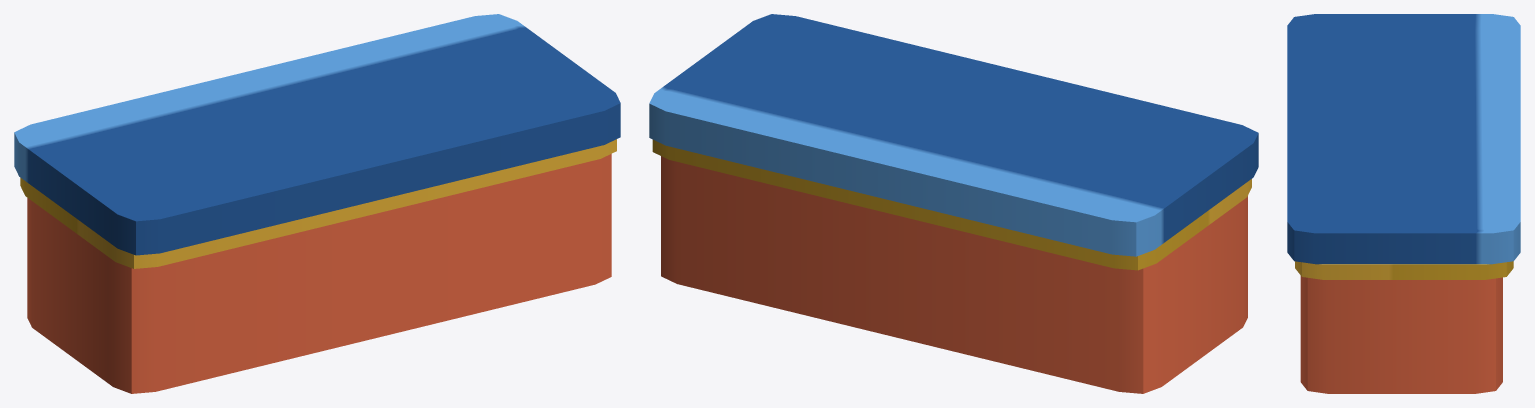
File: Employment_Desk.fbx
3 views of the same model, side by side, from view 1: azimuth 30°, elevation 25°; view 2: azimuth 150°, elevation 25°; view 3: azimuth 270°, elevation 25° (orthographic). The views are drawn at different scales.
Parts seen in each view (by area): view 1: Employment_Desk; view 2: Employment_Desk; view 3: Employment_Desk.
Part boxes in pixels (x1,y1,x2,y2): Employment_Desk: (14,14,620,393); Employment_Desk: (649,14,1258,393); Employment_Desk: (1287,14,1520,393).
Bounding box in the file's own units: 209 × 71.5 × 93.86.
